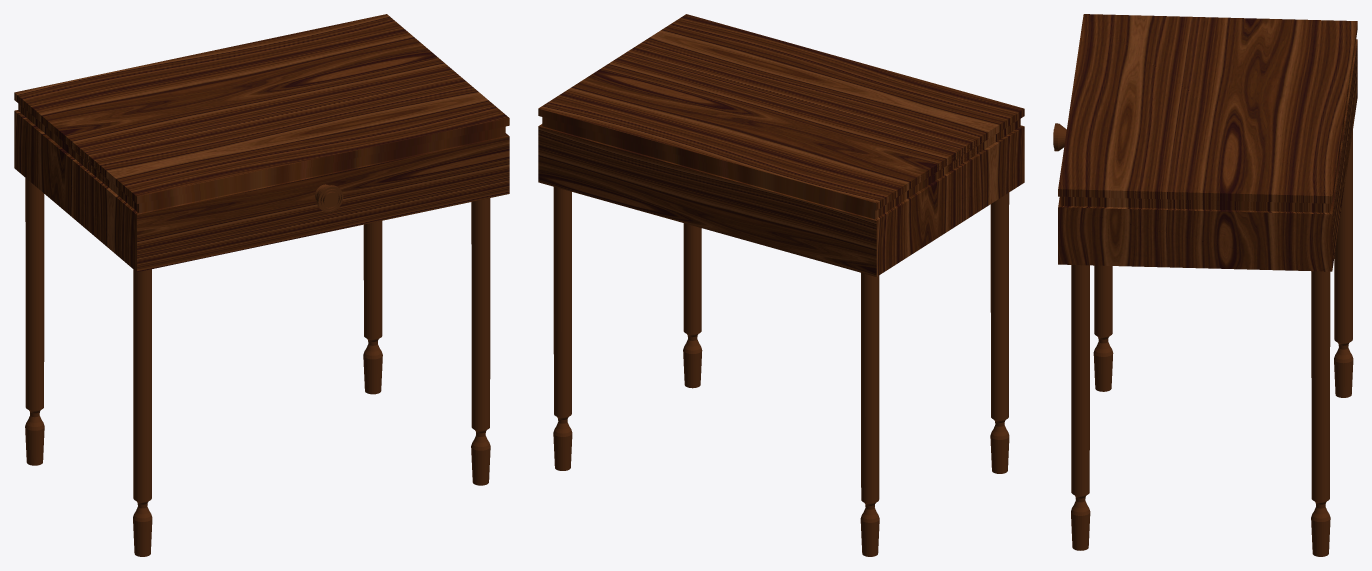
File: stol.fbx
The picture shows the model from 3 angles, left to right: view 1: azimuth 30°, elevation 25°; view 2: azimuth 150°, elevation 25°; view 3: azimuth 270°, elevation 25°; orthographic projection. The views are drawn at different scales.
Visible parts, largest first — view 1: стол.002; view 2: стол.002; view 3: стол.002.
Part boxes in pixels (<box>): стол.002: <box>14,14,509,556</box>; стол.002: <box>538,14,1024,556</box>; стол.002: <box>1053,14,1357,556</box>.
Size of the model in its own units: 70.82 by 66.47 by 50.02.
